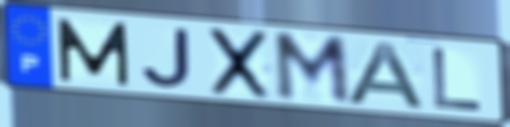A: (343, 39, 431, 112)
J: (139, 27, 195, 90)
L: (429, 45, 487, 113)
M: (270, 30, 354, 108), (53, 16, 133, 88)
X: (208, 25, 272, 101)
